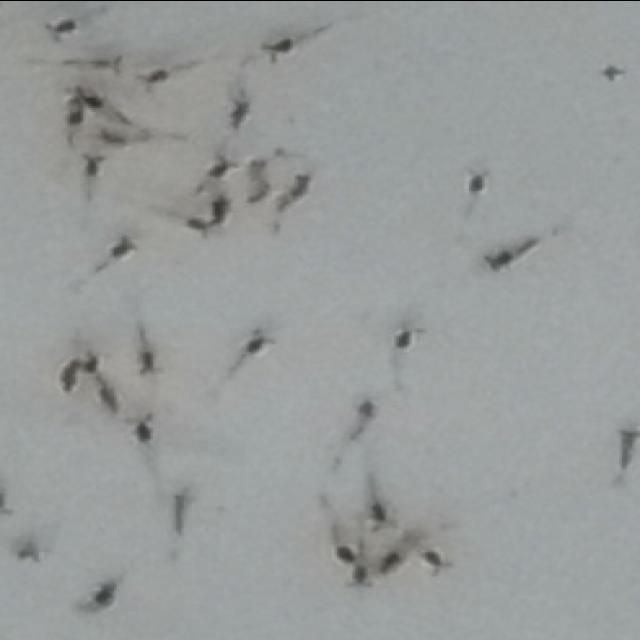shrimp-seed: (486, 235, 540, 272), (169, 486, 199, 534), (62, 52, 122, 76), (99, 230, 141, 263), (82, 576, 122, 610), (348, 397, 380, 439), (218, 95, 256, 129), (134, 63, 174, 95), (243, 159, 271, 204), (130, 341, 166, 375), (88, 376, 120, 414), (257, 32, 297, 62), (391, 318, 429, 349), (122, 413, 158, 445), (419, 546, 457, 576), (56, 354, 86, 392), (243, 325, 278, 357), (42, 16, 82, 44), (280, 173, 316, 204), (205, 152, 241, 182), (205, 192, 235, 228), (366, 502, 401, 532), (612, 430, 640, 466), (72, 83, 110, 109), (78, 150, 110, 180), (181, 214, 215, 242), (346, 561, 376, 591), (378, 548, 406, 578), (61, 96, 89, 126), (18, 540, 50, 566), (464, 166, 492, 194), (330, 542, 362, 565), (130, 120, 161, 142), (82, 352, 108, 376), (102, 129, 132, 149), (598, 61, 626, 80)
